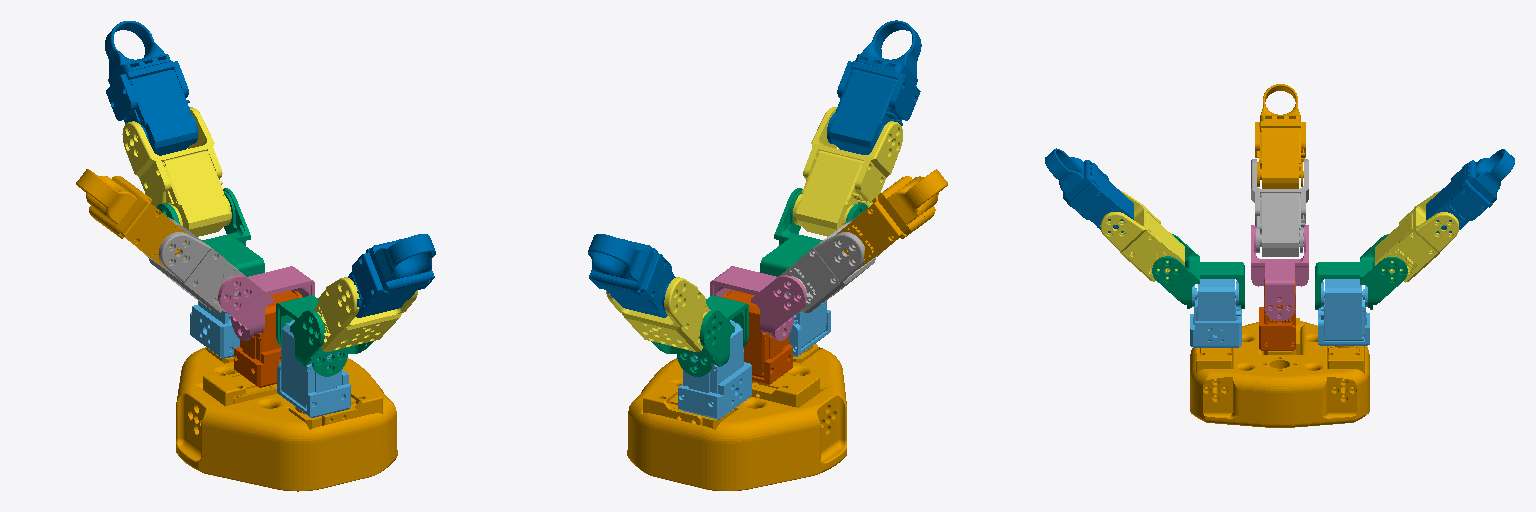
URDF robot description (dexremo_hand_controller):
<?xml version="1.0"?>
<!-- DexRemo three-finger hand. Generated from the STEP assembly; see README for assumptions. -->
<robot name="dexremo_hand_controller">
  <link name="base_link">
    <inertial><origin xyz="0.000963 0.000058 0.023493"/><mass value="0.64893"/><inertia ixx="1.189e-03" ixy="1.323e-06" ixz="-3.200e-06" iyy="7.402e-04" iyz="2.248e-07" izz="1.738e-03"/></inertial>
    <visual><geometry><mesh filename="../meshes/dexremo_hand_controller/visual/base_link.stl"/></geometry></visual>
    <collision><geometry><mesh filename="../meshes/dexremo_hand_controller/collision/base_link_0.stl"/></geometry></collision>
    <collision><geometry><mesh filename="../meshes/dexremo_hand_controller/collision/base_link_1.stl"/></geometry></collision>
    <collision><geometry><mesh filename="../meshes/dexremo_hand_controller/collision/base_link_2.stl"/></geometry></collision>
    <collision><geometry><mesh filename="../meshes/dexremo_hand_controller/collision/base_link_3.stl"/></geometry></collision>
    <collision><geometry><mesh filename="../meshes/dexremo_hand_controller/collision/base_link_4.stl"/></geometry></collision>
    <collision><geometry><mesh filename="../meshes/dexremo_hand_controller/collision/base_link_5.stl"/></geometry></collision>
    <collision><geometry><mesh filename="../meshes/dexremo_hand_controller/collision/base_link_6.stl"/></geometry></collision>
  </link>
  <link name="left_cmc1_link">
    <inertial><origin xyz="-0.000829 -0.000130 0.042133"/><mass value="0.06543"/><inertia ixx="1.978e-05" ixy="-2.319e-08" ixz="-6.846e-07" iyy="1.667e-05" iyz="-1.726e-07" izz="1.071e-05"/></inertial>
    <visual><geometry><mesh filename="../meshes/dexremo_hand_controller/visual/left_cmc1_link.stl"/></geometry></visual>
    <collision><geometry><mesh filename="../meshes/dexremo_hand_controller/collision/left_cmc1_link_0.stl"/></geometry></collision>
    <collision><geometry><mesh filename="../meshes/dexremo_hand_controller/collision/left_cmc1_link_1.stl"/></geometry></collision>
  </link>
  <joint name="left_cmc1" type="revolute"><parent link="base_link"/><child link="left_cmc1_link"/><origin xyz="-0.002908 0.049950 0.028942"/><axis xyz="0.000000 0.000000 -1.000000"/><limit lower="-1.5708" upper="1.5708" effort="1.90" velocity="4.70"/><dynamics damping="0.1"/></joint>
  <link name="left_cmc2_link">
    <inertial><origin xyz="-0.000127 0.013888 0.015825"/><mass value="0.01913"/><inertia ixx="9.806e-06" ixy="1.059e-07" ixz="4.325e-08" iyy="6.207e-06" iyz="-1.503e-06" izz="1.157e-05"/></inertial>
    <visual><geometry><mesh filename="../meshes/dexremo_hand_controller/visual/left_cmc2_link.stl"/></geometry></visual>
    <collision><geometry><mesh filename="../meshes/dexremo_hand_controller/collision/left_cmc2_link_0.stl"/></geometry></collision>
  </link>
  <joint name="left_cmc2" type="revolute"><parent link="left_cmc1_link"/><child link="left_cmc2_link"/><origin xyz="0.000000 -0.000100 0.058000"/><axis xyz="0.000000 -1.000000 0.000000"/><limit lower="-1.5708" upper="1.5708" effort="1.90" velocity="4.70"/><dynamics damping="0.1"/></joint>
  <link name="left_mcp_link">
    <inertial><origin xyz="-0.000258 0.013788 0.011813"/><mass value="0.07467"/><inertia ixx="2.426e-05" ixy="1.303e-08" ixz="-3.361e-08" iyy="2.189e-05" iyz="-7.499e-06" izz="2.261e-05"/></inertial>
    <visual><geometry><mesh filename="../meshes/dexremo_hand_controller/visual/left_mcp_link.stl"/></geometry></visual>
    <collision><geometry><mesh filename="../meshes/dexremo_hand_controller/collision/left_mcp_link_0.stl"/></geometry></collision>
    <collision><geometry><mesh filename="../meshes/dexremo_hand_controller/collision/left_mcp_link_1.stl"/></geometry></collision>
  </link>
  <joint name="left_mcp" type="revolute"><parent link="left_cmc2_link"/><child link="left_mcp_link"/><origin xyz="0.000300 0.037800 0.030000"/><axis xyz="-1.000000 0.000000 0.000000"/><limit lower="-1.5708" upper="1.5708" effort="1.90" velocity="4.70"/><dynamics damping="0.1"/></joint>
  <link name="left_ip_link">
    <inertial><origin xyz="-0.000120 0.014091 0.014026"/><mass value="0.07434"/><inertia ixx="2.656e-05" ixy="-8.330e-08" ixz="-8.318e-08" iyy="2.037e-05" iyz="-9.335e-06" izz="2.053e-05"/></inertial>
    <visual><geometry><mesh filename="../meshes/dexremo_hand_controller/visual/left_ip_link.stl"/></geometry></visual>
    <collision><geometry><mesh filename="../meshes/dexremo_hand_controller/collision/left_ip_link_0.stl"/></geometry></collision>
    <collision><geometry><mesh filename="../meshes/dexremo_hand_controller/collision/left_ip_link_1.stl"/></geometry></collision>
    <collision><geometry><mesh filename="../meshes/dexremo_hand_controller/collision/left_ip_link_2.stl"/></geometry></collision>
  </link>
  <joint name="left_ip" type="revolute"><parent link="left_mcp_link"/><child link="left_ip_link"/><origin xyz="0.000200 0.040447 0.037618"/><axis xyz="-1.000000 0.000000 0.000000"/><limit lower="-1.5708" upper="1.5708" effort="1.90" velocity="4.70"/><dynamics damping="0.1"/></joint>
  <link name="mid_cmc1_link">
    <inertial><origin xyz="0.000130 -0.000829 0.042133"/><mass value="0.06543"/><inertia ixx="1.667e-05" ixy="2.319e-08" ixz="1.726e-07" iyy="1.978e-05" iyz="-6.846e-07" izz="1.071e-05"/></inertial>
    <visual><geometry><mesh filename="../meshes/dexremo_hand_controller/visual/mid_cmc1_link.stl"/></geometry></visual>
    <collision><geometry><mesh filename="../meshes/dexremo_hand_controller/collision/mid_cmc1_link_0.stl"/></geometry></collision>
    <collision><geometry><mesh filename="../meshes/dexremo_hand_controller/collision/mid_cmc1_link_1.stl"/></geometry></collision>
  </link>
  <joint name="mid_cmc1" type="revolute"><parent link="base_link"/><child link="mid_cmc1_link"/><origin xyz="-0.001008 -0.000050 0.028942"/><axis xyz="0.000000 0.000000 -1.000000"/><limit lower="-1.5708" upper="1.5708" effort="1.90" velocity="4.70"/><dynamics damping="0.1"/></joint>
  <link name="mid_cmc2_link">
    <inertial><origin xyz="-0.013888 -0.000127 0.015825"/><mass value="0.01913"/><inertia ixx="6.207e-06" ixy="-1.059e-07" ixz="1.503e-06" iyy="9.806e-06" iyz="4.325e-08" izz="1.157e-05"/></inertial>
    <visual><geometry><mesh filename="../meshes/dexremo_hand_controller/visual/mid_cmc2_link.stl"/></geometry></visual>
    <collision><geometry><mesh filename="../meshes/dexremo_hand_controller/collision/mid_cmc2_link_0.stl"/></geometry></collision>
  </link>
  <joint name="mid_cmc2" type="revolute"><parent link="mid_cmc1_link"/><child link="mid_cmc2_link"/><origin xyz="0.000100 0.000000 0.058000"/><axis xyz="1.000000 0.000000 0.000000"/><limit lower="-1.5708" upper="1.5708" effort="1.90" velocity="4.70"/><dynamics damping="0.1"/></joint>
  <link name="mid_mcp_link">
    <inertial><origin xyz="-0.013788 -0.000258 0.011813"/><mass value="0.07467"/><inertia ixx="2.189e-05" ixy="-1.303e-08" ixz="7.499e-06" iyy="2.426e-05" iyz="-3.361e-08" izz="2.261e-05"/></inertial>
    <visual><geometry><mesh filename="../meshes/dexremo_hand_controller/visual/mid_mcp_link.stl"/></geometry></visual>
    <collision><geometry><mesh filename="../meshes/dexremo_hand_controller/collision/mid_mcp_link_0.stl"/></geometry></collision>
    <collision><geometry><mesh filename="../meshes/dexremo_hand_controller/collision/mid_mcp_link_1.stl"/></geometry></collision>
  </link>
  <joint name="mid_mcp" type="revolute"><parent link="mid_cmc2_link"/><child link="mid_mcp_link"/><origin xyz="-0.037800 0.000300 0.030000"/><axis xyz="0.000000 -1.000000 0.000000"/><limit lower="-1.5708" upper="1.5708" effort="1.90" velocity="4.70"/><dynamics damping="0.1"/></joint>
  <link name="mid_ip_link">
    <inertial><origin xyz="-0.014091 -0.000120 0.014026"/><mass value="0.07434"/><inertia ixx="2.037e-05" ixy="8.330e-08" ixz="9.335e-06" iyy="2.656e-05" iyz="-8.318e-08" izz="2.053e-05"/></inertial>
    <visual><geometry><mesh filename="../meshes/dexremo_hand_controller/visual/mid_ip_link.stl"/></geometry></visual>
    <collision><geometry><mesh filename="../meshes/dexremo_hand_controller/collision/mid_ip_link_0.stl"/></geometry></collision>
    <collision><geometry><mesh filename="../meshes/dexremo_hand_controller/collision/mid_ip_link_1.stl"/></geometry></collision>
    <collision><geometry><mesh filename="../meshes/dexremo_hand_controller/collision/mid_ip_link_2.stl"/></geometry></collision>
  </link>
  <joint name="mid_ip" type="revolute"><parent link="mid_mcp_link"/><child link="mid_ip_link"/><origin xyz="-0.040447 0.000200 0.037618"/><axis xyz="0.000000 -1.000000 0.000000"/><limit lower="-1.5708" upper="1.5708" effort="1.90" velocity="4.70"/><dynamics damping="0.1"/></joint>
  <link name="right_cmc1_link">
    <inertial><origin xyz="0.000829 0.000130 0.042133"/><mass value="0.06543"/><inertia ixx="1.978e-05" ixy="-2.319e-08" ixz="6.846e-07" iyy="1.667e-05" iyz="1.726e-07" izz="1.071e-05"/></inertial>
    <visual><geometry><mesh filename="../meshes/dexremo_hand_controller/visual/right_cmc1_link.stl"/></geometry></visual>
    <collision><geometry><mesh filename="../meshes/dexremo_hand_controller/collision/right_cmc1_link_0.stl"/></geometry></collision>
    <collision><geometry><mesh filename="../meshes/dexremo_hand_controller/collision/right_cmc1_link_1.stl"/></geometry></collision>
  </link>
  <joint name="right_cmc1" type="revolute"><parent link="base_link"/><child link="right_cmc1_link"/><origin xyz="-0.003008 -0.050050 0.029142"/><axis xyz="0.000000 0.000000 -1.000000"/><limit lower="-1.5708" upper="1.5708" effort="1.90" velocity="4.70"/><dynamics damping="0.1"/></joint>
  <link name="right_cmc2_link">
    <inertial><origin xyz="0.000127 -0.013888 0.015825"/><mass value="0.01913"/><inertia ixx="9.806e-06" ixy="1.059e-07" ixz="-4.325e-08" iyy="6.207e-06" iyz="1.503e-06" izz="1.157e-05"/></inertial>
    <visual><geometry><mesh filename="../meshes/dexremo_hand_controller/visual/right_cmc2_link.stl"/></geometry></visual>
    <collision><geometry><mesh filename="../meshes/dexremo_hand_controller/collision/right_cmc2_link_0.stl"/></geometry></collision>
  </link>
  <joint name="right_cmc2" type="revolute"><parent link="right_cmc1_link"/><child link="right_cmc2_link"/><origin xyz="0.000000 0.000100 0.058000"/><axis xyz="0.000000 1.000000 0.000000"/><limit lower="-1.5708" upper="1.5708" effort="1.90" velocity="4.70"/><dynamics damping="0.1"/></joint>
  <link name="right_mcp_link">
    <inertial><origin xyz="0.000258 -0.013788 0.011813"/><mass value="0.07467"/><inertia ixx="2.426e-05" ixy="1.303e-08" ixz="3.361e-08" iyy="2.189e-05" iyz="7.499e-06" izz="2.261e-05"/></inertial>
    <visual><geometry><mesh filename="../meshes/dexremo_hand_controller/visual/right_mcp_link.stl"/></geometry></visual>
    <collision><geometry><mesh filename="../meshes/dexremo_hand_controller/collision/right_mcp_link_0.stl"/></geometry></collision>
    <collision><geometry><mesh filename="../meshes/dexremo_hand_controller/collision/right_mcp_link_1.stl"/></geometry></collision>
  </link>
  <joint name="right_mcp" type="revolute"><parent link="right_cmc2_link"/><child link="right_mcp_link"/><origin xyz="-0.000300 -0.037800 0.030000"/><axis xyz="1.000000 0.000000 0.000000"/><limit lower="-1.5708" upper="1.5708" effort="1.90" velocity="4.70"/><dynamics damping="0.1"/></joint>
  <link name="right_ip_link">
    <inertial><origin xyz="0.000120 -0.014091 0.014026"/><mass value="0.07434"/><inertia ixx="2.656e-05" ixy="-8.330e-08" ixz="8.318e-08" iyy="2.037e-05" iyz="9.335e-06" izz="2.053e-05"/></inertial>
    <visual><geometry><mesh filename="../meshes/dexremo_hand_controller/visual/right_ip_link.stl"/></geometry></visual>
    <collision><geometry><mesh filename="../meshes/dexremo_hand_controller/collision/right_ip_link_0.stl"/></geometry></collision>
    <collision><geometry><mesh filename="../meshes/dexremo_hand_controller/collision/right_ip_link_1.stl"/></geometry></collision>
    <collision><geometry><mesh filename="../meshes/dexremo_hand_controller/collision/right_ip_link_2.stl"/></geometry></collision>
  </link>
  <joint name="right_ip" type="revolute"><parent link="right_mcp_link"/><child link="right_ip_link"/><origin xyz="-0.000200 -0.040447 0.037618"/><axis xyz="1.000000 0.000000 0.000000"/><limit lower="-1.5708" upper="1.5708" effort="1.90" velocity="4.70"/><dynamics damping="0.1"/></joint>
</robot>

--- What the picture shows (computed from the rendered views, not written in the file) ---
Views: 3 orthographic renders of the robot side by side, from view 1: azimuth 30°, elevation 25°; view 2: azimuth 150°, elevation 25°; view 3: azimuth 270°, elevation 25°.
Model dexremo_hand_controller with 13 links and 12 joints (12 revolute), rooted at base_link, posed every joint at zero.
Visible links, largest first — view 1: base_link, left_ip_link, left_mcp_link, right_ip_link, mid_ip_link, mid_mcp_link, mid_cmc2_link, right_cmc1_link, right_mcp_link, right_cmc2_link, mid_cmc1_link, left_cmc2_link (+1 smaller); view 2: base_link, right_ip_link, right_mcp_link, left_ip_link, mid_ip_link, mid_mcp_link, left_cmc1_link, mid_cmc2_link, left_mcp_link, left_cmc2_link, mid_cmc1_link, right_cmc2_link (+1 smaller); view 3: base_link, mid_ip_link, mid_mcp_link, right_ip_link, left_ip_link, left_mcp_link, right_mcp_link, right_cmc1_link, left_cmc1_link, mid_cmc2_link, left_cmc2_link, right_cmc2_link (+1 smaller).
Link boxes in pixels (x1,y1,x2,y2): base_link: (176, 347, 397, 491); left_ip_link: (105, 21, 197, 155); left_mcp_link: (122, 107, 231, 236); right_ip_link: (348, 234, 435, 317); mid_ip_link: (76, 169, 187, 269); mid_mcp_link: (139, 217, 248, 312); mid_cmc2_link: (218, 266, 314, 340); right_cmc1_link: (277, 320, 350, 417); right_mcp_link: (313, 277, 417, 351); right_cmc2_link: (276, 295, 373, 376); mid_cmc1_link: (234, 290, 301, 387); left_cmc2_link: (157, 188, 264, 276); base_link: (627, 344, 846, 490); right_ip_link: (827, 20, 921, 154); right_mcp_link: (793, 107, 902, 236); left_ip_link: (588, 234, 675, 317); mid_ip_link: (837, 169, 947, 269); mid_mcp_link: (777, 218, 885, 312); left_cmc1_link: (678, 320, 751, 419); mid_cmc2_link: (710, 266, 806, 340); left_mcp_link: (606, 277, 710, 351); left_cmc2_link: (651, 295, 748, 376); mid_cmc1_link: (722, 290, 792, 384); right_cmc2_link: (760, 188, 867, 276); base_link: (1190, 318, 1369, 427); mid_ip_link: (1255, 84, 1305, 188); mid_mcp_link: (1251, 159, 1308, 256); right_ip_link: (1045, 148, 1133, 232); left_ip_link: (1426, 149, 1514, 232); left_mcp_link: (1375, 191, 1458, 282); right_mcp_link: (1100, 191, 1184, 281); right_cmc1_link: (1190, 279, 1241, 347); left_cmc1_link: (1318, 279, 1369, 345); mid_cmc2_link: (1251, 225, 1308, 320); left_cmc2_link: (1315, 234, 1407, 309); right_cmc2_link: (1152, 234, 1244, 308).
Bounding box of the posed robot: 0.1964 × 0.3677 × 0.2104 m (x, y, z).
13 mesh visuals loaded from 13 distinct referenced files (13 binary STL).
